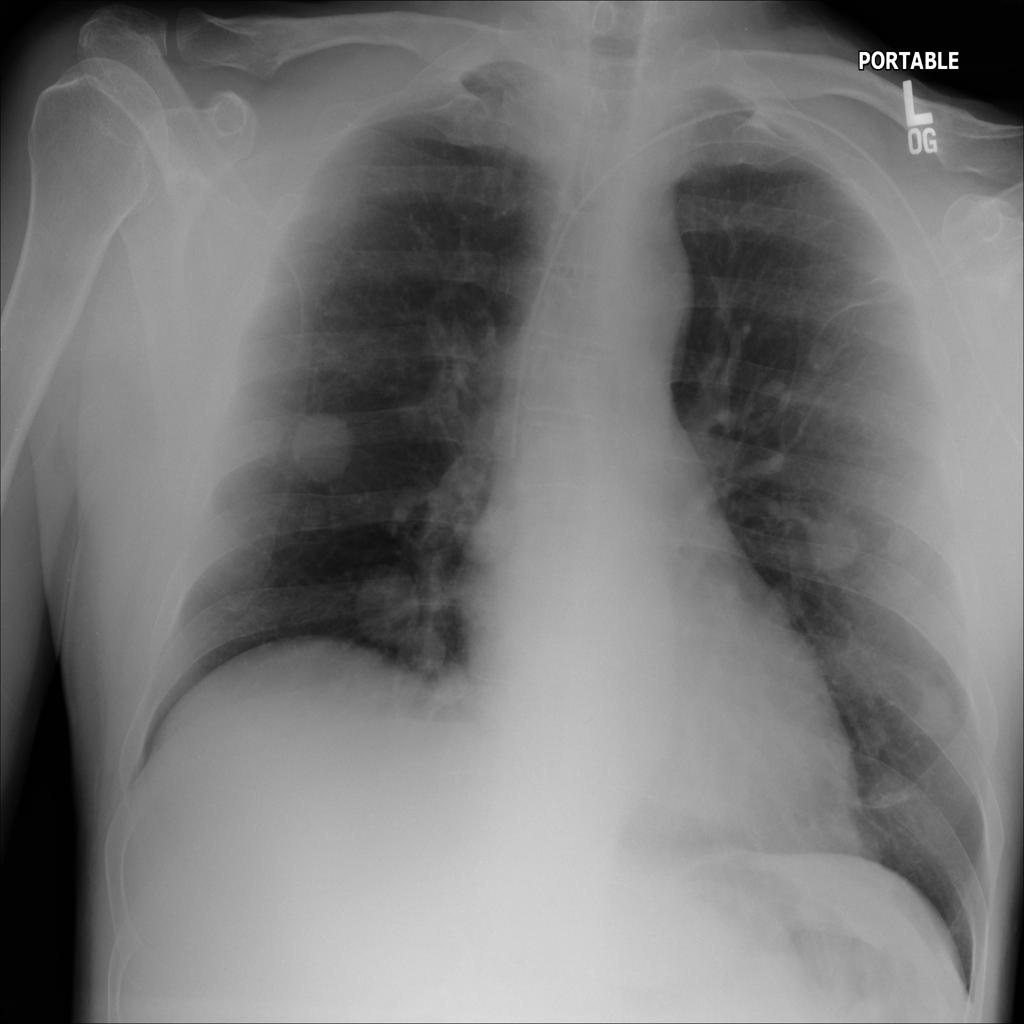nodule: (337, 553, 444, 658), (271, 391, 370, 500), (793, 501, 871, 583), (385, 610, 465, 681), (899, 670, 966, 751), (748, 571, 819, 643), (870, 505, 939, 579), (788, 322, 860, 391)
